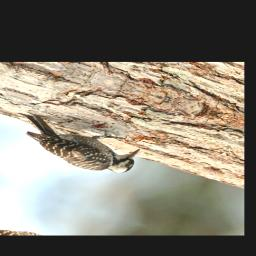Woodpecker: (0, 105, 152, 183)
